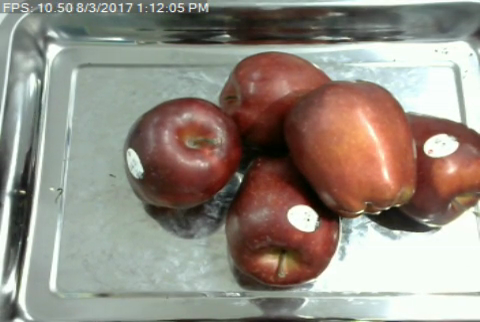Apple: (282, 78, 419, 220), (223, 148, 343, 287), (122, 95, 246, 210), (216, 50, 338, 149), (394, 109, 480, 228)
